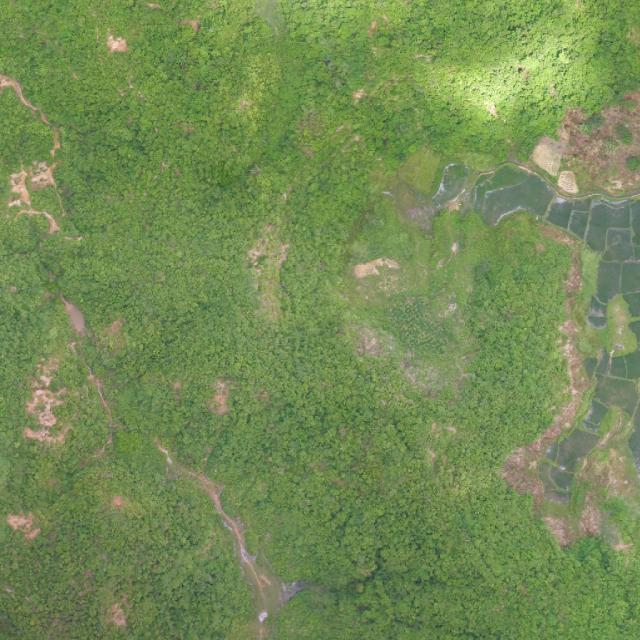agricultural_land: (456, 106, 640, 355), (548, 420, 601, 476), (429, 158, 473, 214), (581, 399, 608, 434), (546, 467, 575, 492)
dryland: (493, 316, 612, 508), (544, 218, 592, 294)
